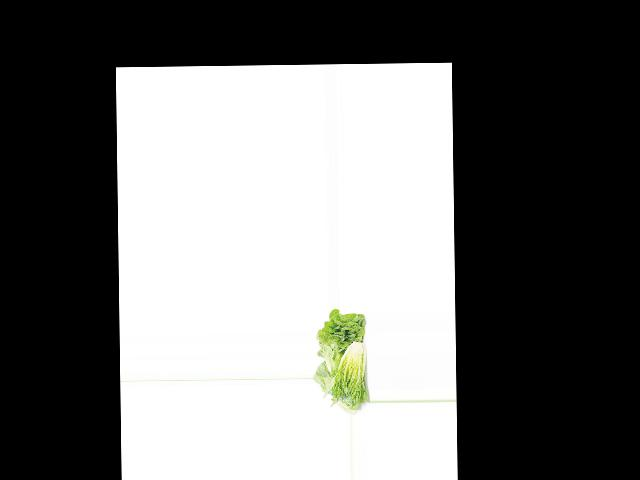lettuce: (316, 310, 370, 372)
